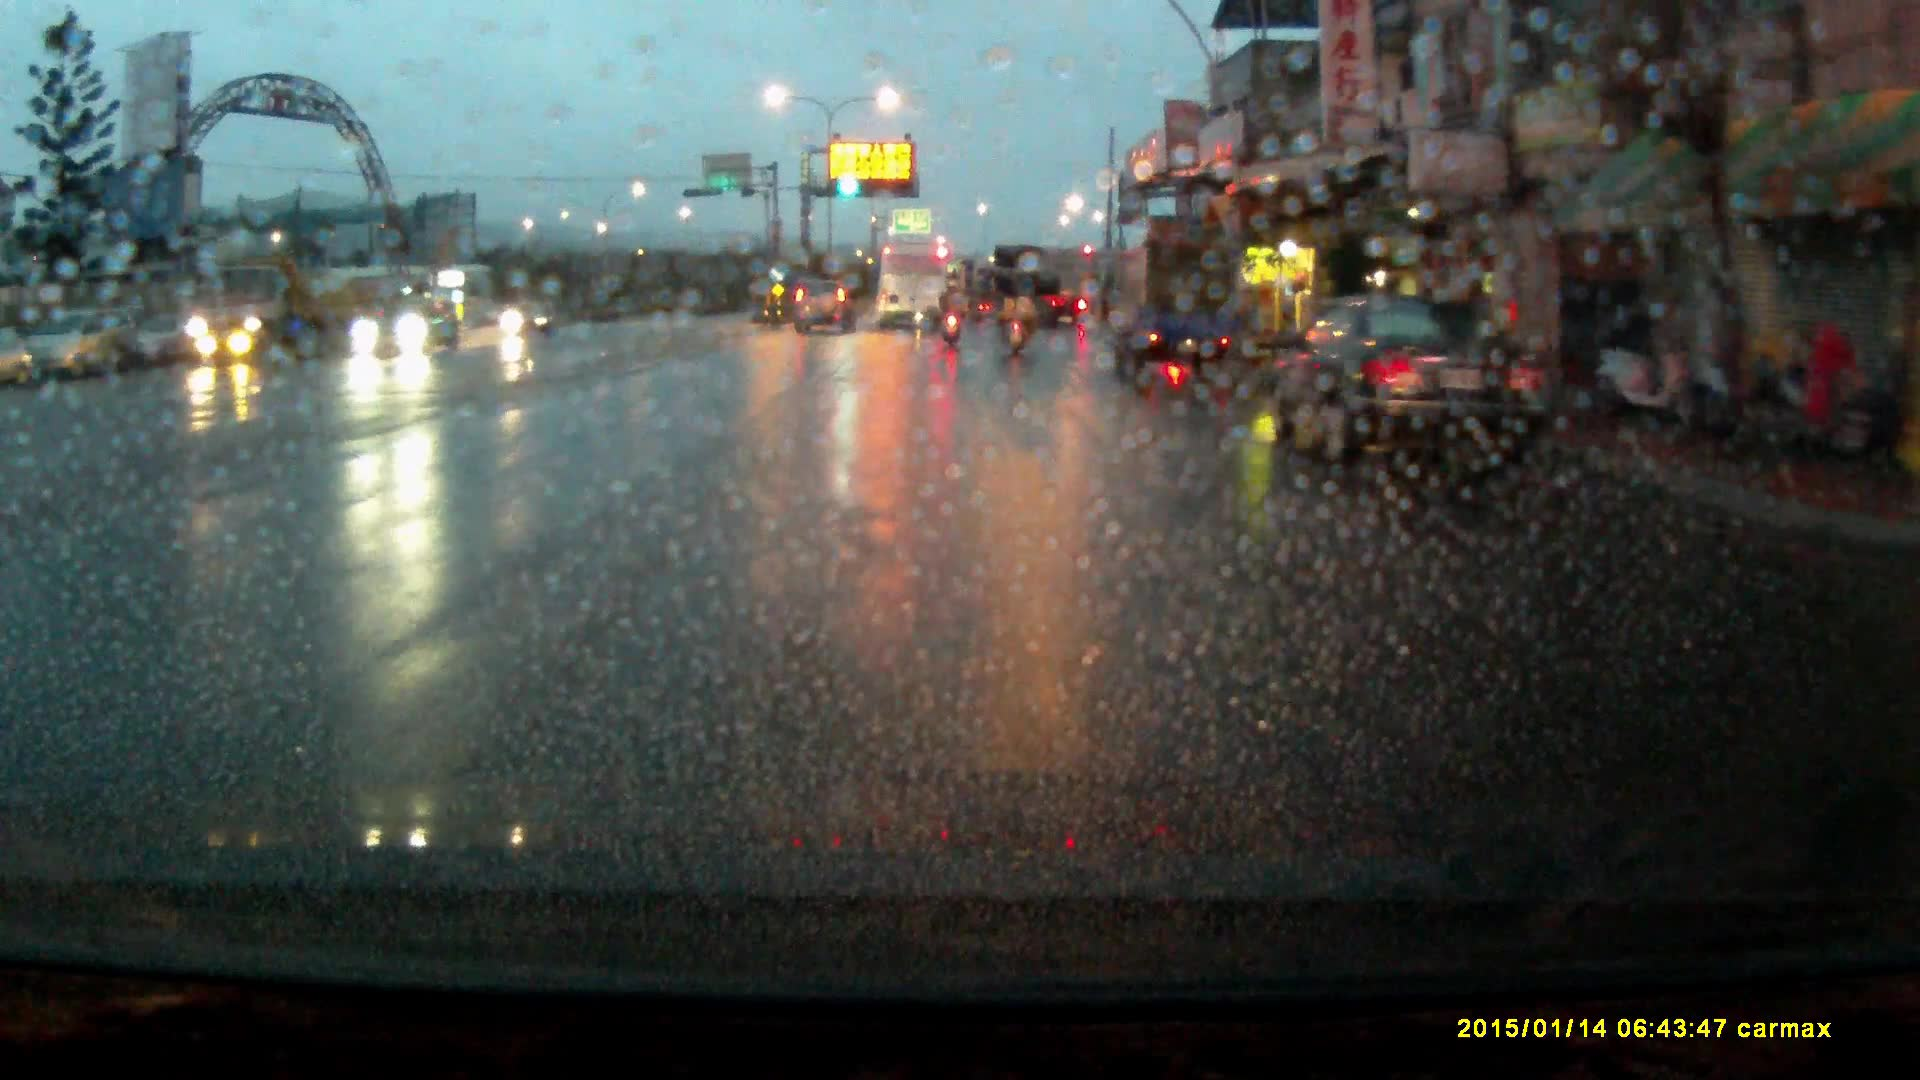rider: (996, 276, 1033, 359), (941, 282, 969, 352)
vehicle: (1281, 297, 1539, 489), (195, 254, 391, 366), (1111, 244, 1245, 375), (16, 310, 130, 388), (349, 301, 466, 361), (993, 247, 1063, 334), (878, 247, 946, 333), (794, 279, 858, 341), (498, 299, 564, 343)
